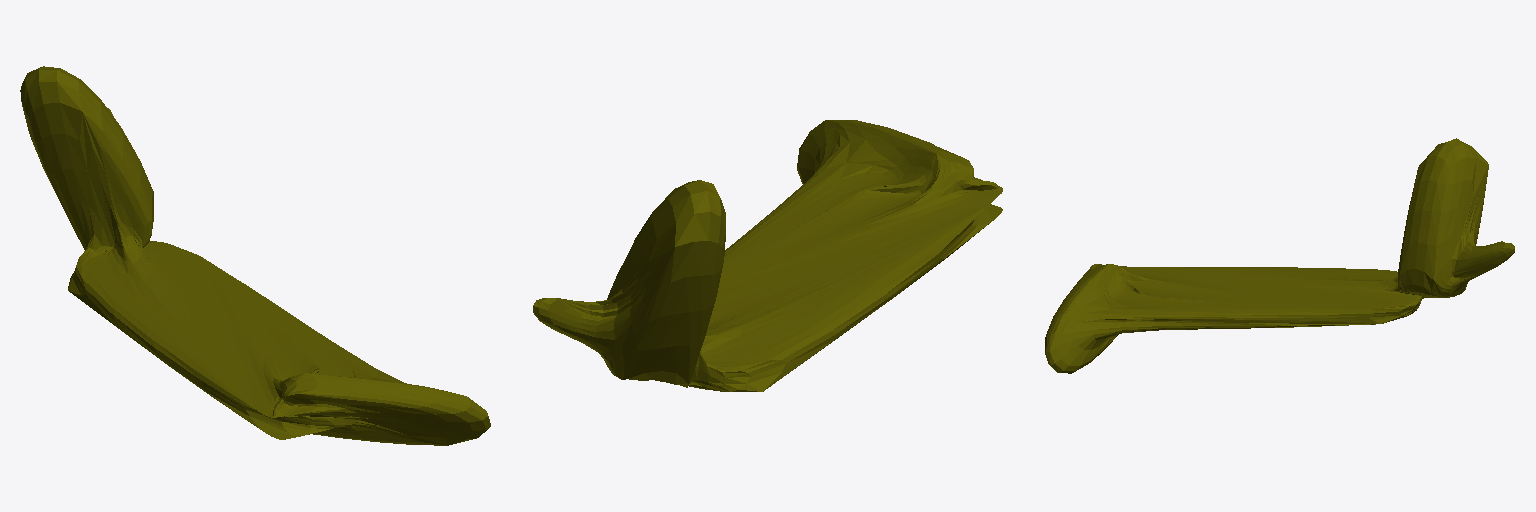
robot.urdf — blob155:

<robot name="blob155">
  <link name="random_obj_155">
    <contact>
      <lateral_friction value="1.0"/>
      <rolling_friction value="0.0"/>
      <inertia_scaling value="3.0"/>
      <contact_cfm value="0.0"/>
      <contact_erp value="1.0"/>
    </contact>
    <inertial>
      <origin rpy="0 0 0" xyz="0 0 0"/>
      <mass value="0.0948"/>
      <inertia ixx="1" ixy="0" ixz="0" iyy="1" iyz="0" izz="0"/>
    </inertial>
    <visual>
      <origin rpy="0 0 0" xyz="0 0 0"/>
      <geometry>
        <mesh filename="155.obj" scale="0.0084 0.0084 0.0084"/>
      </geometry>
      <material name="blockmat">
        <color rgba="0.40 0.39 0.05 1"/>
      </material>
    </visual>
    <collision>
      <origin rpy="0 0 0" xyz="0 0 0"/>
      <geometry>
        <mesh filename="155_coll.obj" scale="0.0084 0.0084 0.0084"/>
      </geometry>
    </collision>
  </link>
</robot>

--- What the picture shows (computed from the rendered views, not written in the file) ---
The picture shows the robot from 3 angles, left to right: view 1: azimuth 30°, elevation 25°; view 2: azimuth 150°, elevation 25°; view 3: azimuth 270°, elevation 25°; orthographic projection.
Robot: blob155 — 1 links, 0 joints (none); root link random_obj_155; default pose: all joints at 0.
Links seen in each view (by area): view 1: random_obj_155; view 2: random_obj_155; view 3: random_obj_155.
Link boxes in pixels (box(x1,y1,x2,y2)): random_obj_155: box(20, 66, 490, 445); random_obj_155: box(533, 120, 1002, 391); random_obj_155: box(1045, 138, 1514, 373).
Size in the robot's own frame: 0.0531 by 0.1394 by 0.0573 metres.
Meshes: 1 distinct files referenced, 1 mesh visuals loaded (1 OBJ).
